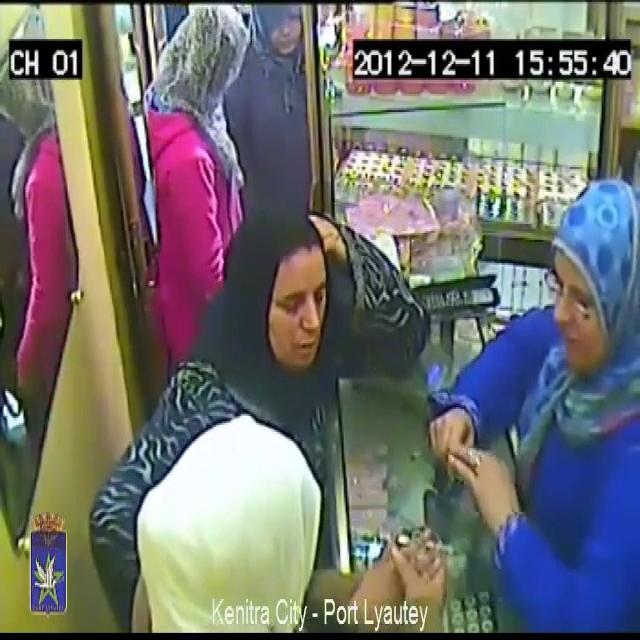Product: (374, 520, 421, 580)
normal: (426, 188, 640, 638), (142, 0, 243, 332), (214, 178, 345, 396), (228, 0, 314, 192)
shoplifting: (94, 389, 458, 640)
